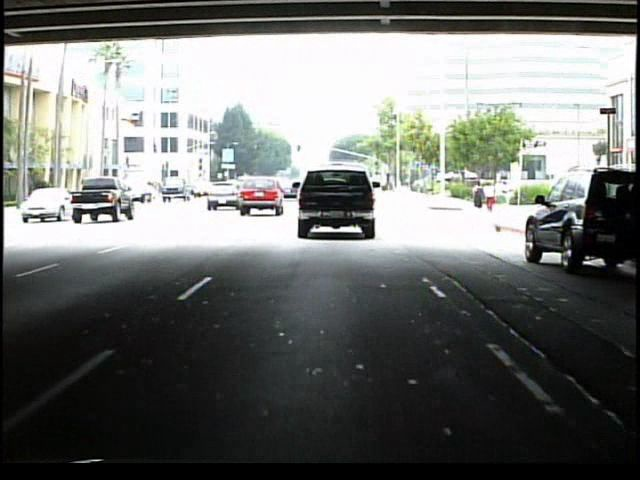person: (497, 178, 513, 216), (471, 179, 486, 216), (486, 182, 498, 213)
